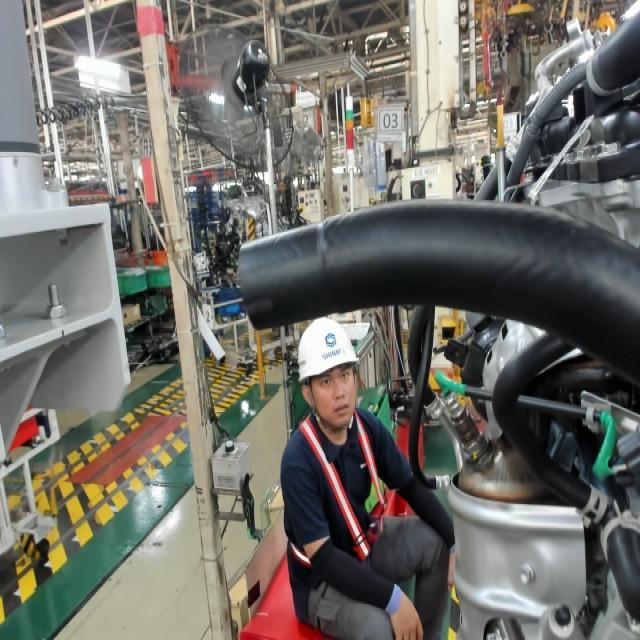Hose Radiator-PC: (244, 292, 278, 320)
